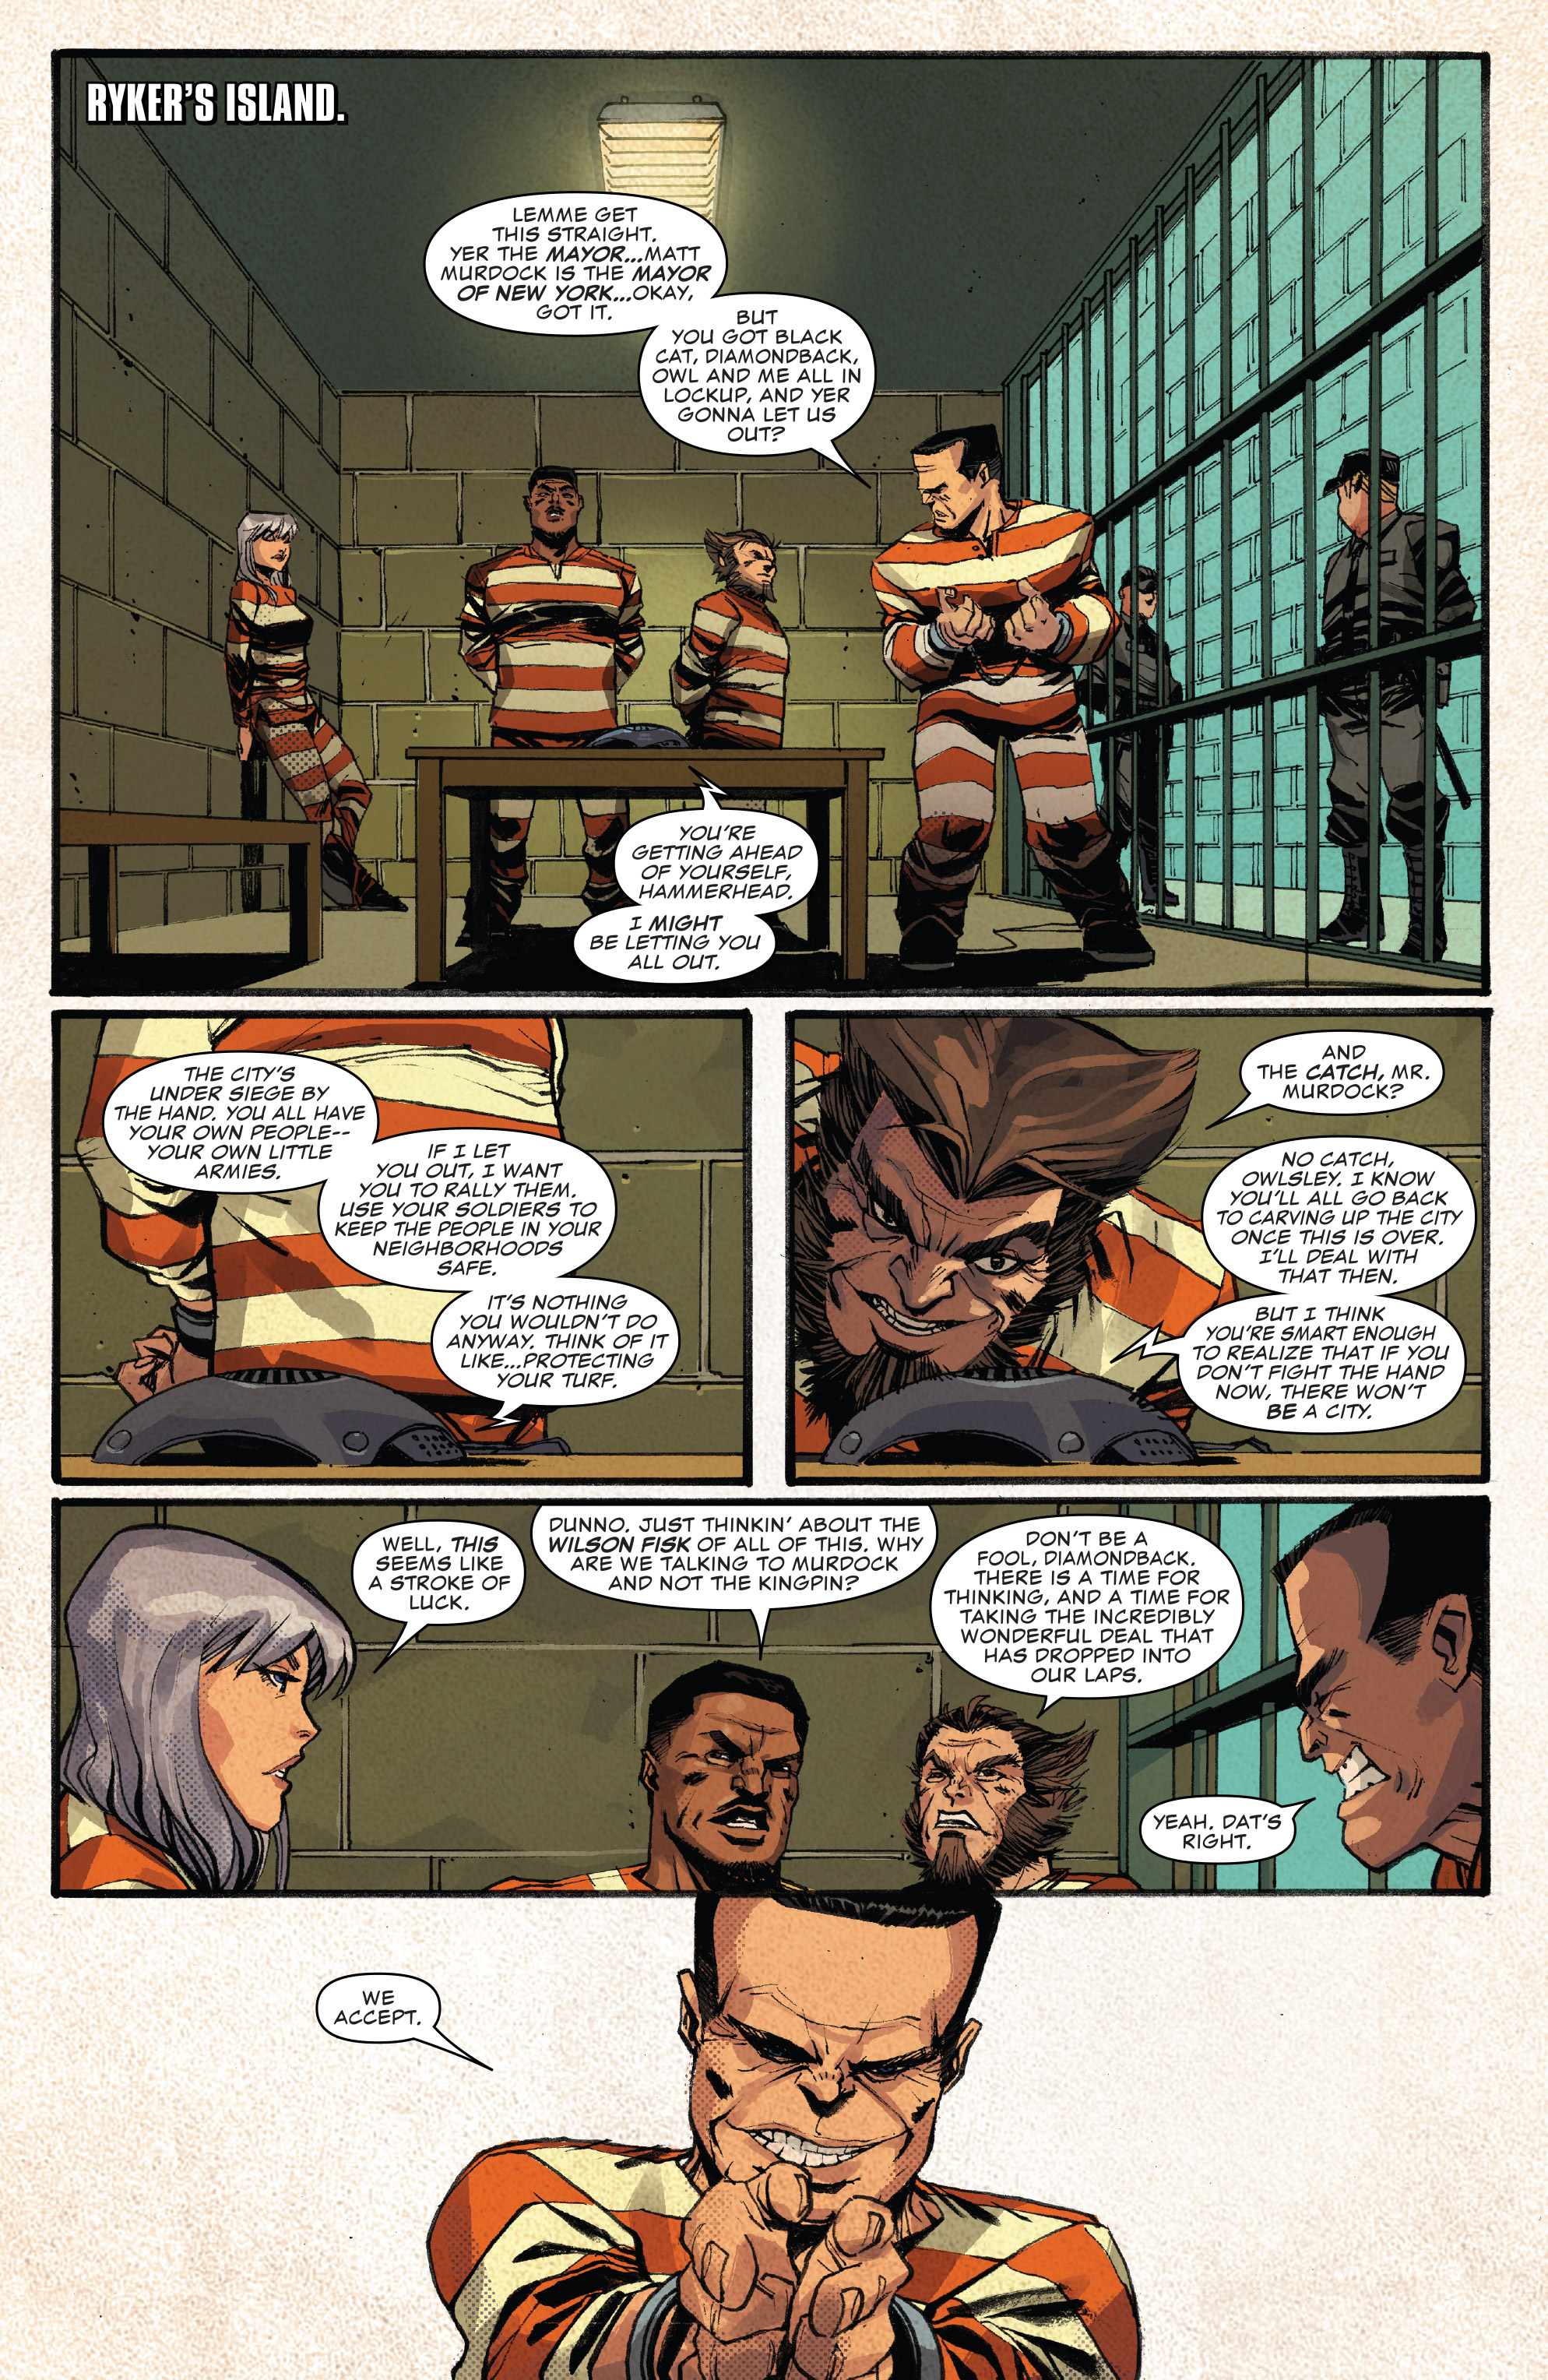Baloon: (413, 191, 882, 474), (927, 1509, 1243, 1709), (567, 767, 820, 975), (530, 1504, 940, 1627), (1113, 1298, 1477, 1435), (322, 1122, 608, 1285), (1194, 1141, 1477, 1294), (423, 1282, 683, 1431), (101, 1053, 371, 1190), (338, 1520, 527, 1660), (1210, 1034, 1451, 1126), (312, 1969, 491, 2068), (1135, 1794, 1317, 1861)
Vignetta: (49, 50, 1484, 985), (45, 1504, 1487, 1891), (279, 1894, 1288, 2380), (784, 1008, 1484, 1480), (52, 1015, 745, 1481)
